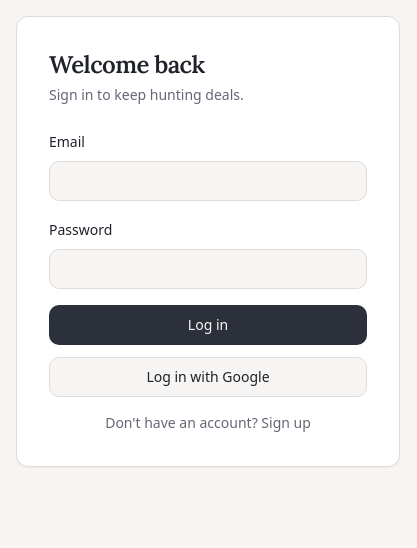
Test case: Auth mode labels › mode switch updates visible labels
Click the button "Don't have an account? Sign up". click: point(208, 423)
box: [49,413,367,433]
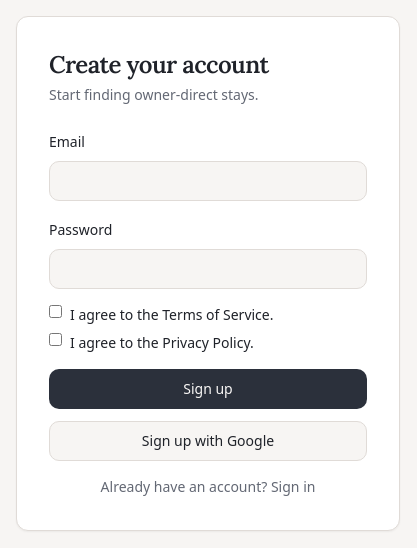
expect the button "Sign up" is shown: met, box [49,369,367,409]
expect the button "Sign up with Google" is shown: met, box [49,421,367,461]
